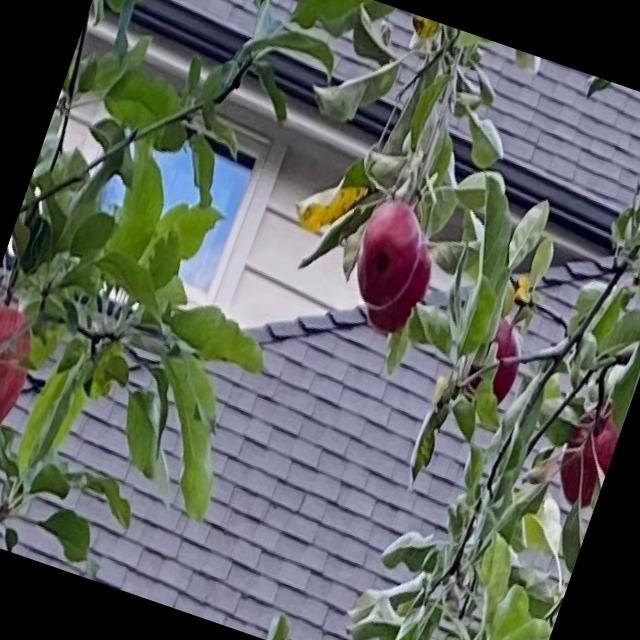Apples: (343, 194, 431, 312), (546, 402, 624, 514), (454, 310, 532, 414), (361, 237, 436, 342), (0, 299, 44, 445)
